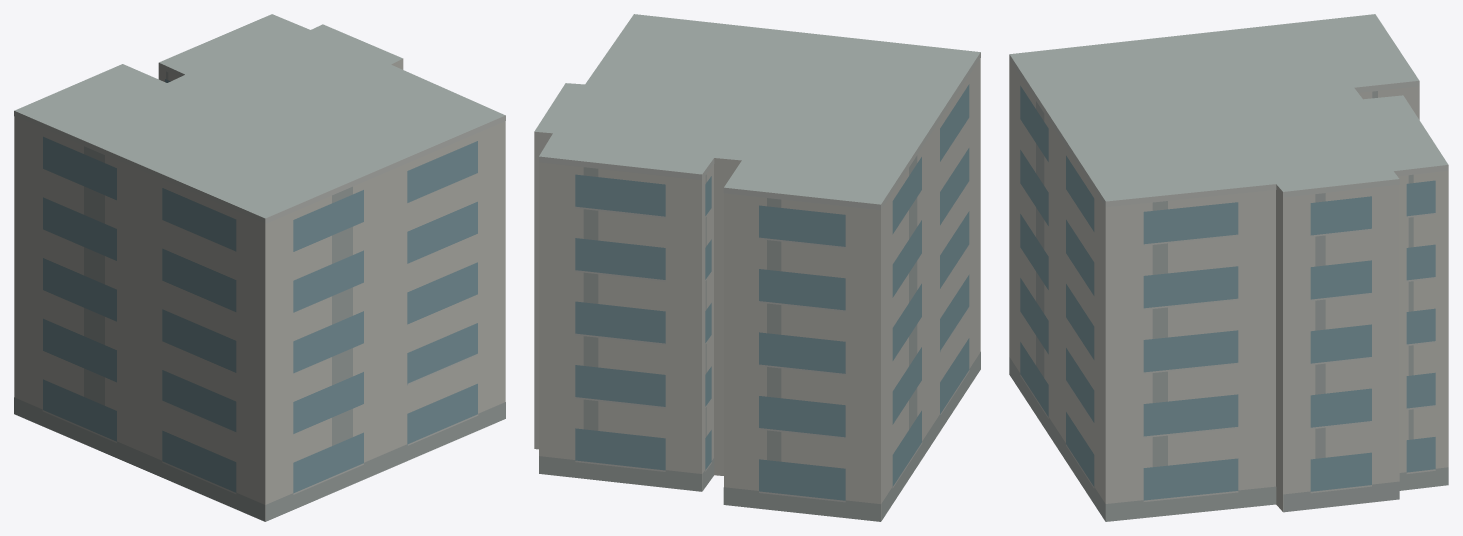
The model's file is survey-upis-32466943.glb.
3 renders of one model, left to right at view 1: azimuth 30°, elevation 25°; view 2: azimuth 150°, elevation 25°; view 3: azimuth 270°, elevation 25°, orthographic. The views are drawn at different scales.
Parts seen in each view (by area): view 1: survey-upis-32466943.tmp; view 2: survey-upis-32466943.tmp; view 3: survey-upis-32466943.tmp.
Boxes of the visible parts, x1=… form: survey-upis-32466943.tmp: x1=14, y1=14, x2=505, y2=521; survey-upis-32466943.tmp: x1=534, y1=14, x2=980, y2=521; survey-upis-32466943.tmp: x1=1009, y1=14, x2=1448, y2=521.
Bounding box in the file's own units: 16.89 × 13.45 × 16.72.
